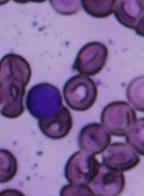L: (25, 82, 61, 119)
